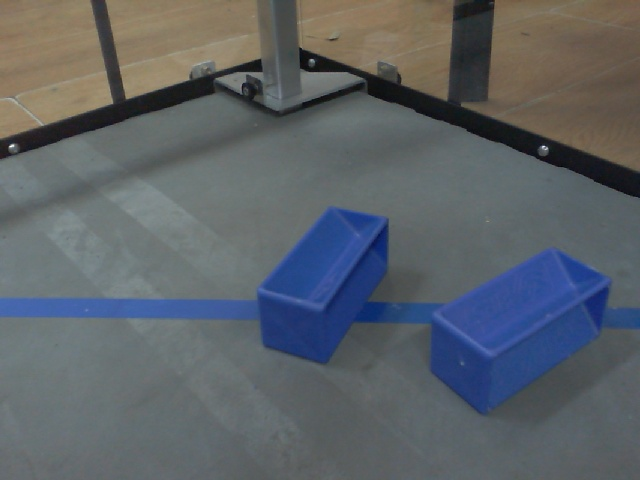BlueSample: (425, 245, 614, 420), (253, 205, 393, 370)
